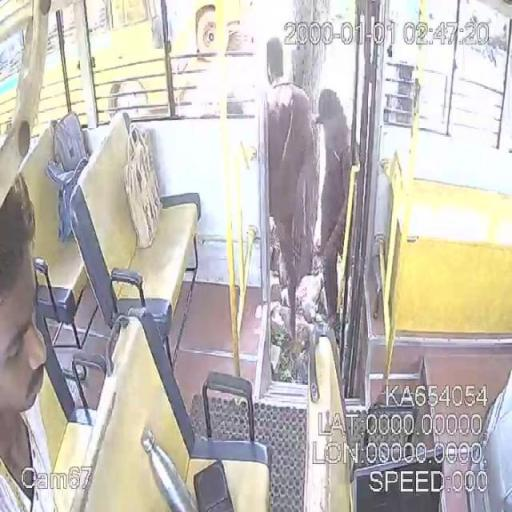persona: (0, 174, 56, 511), (262, 36, 320, 342), (312, 87, 354, 329)
